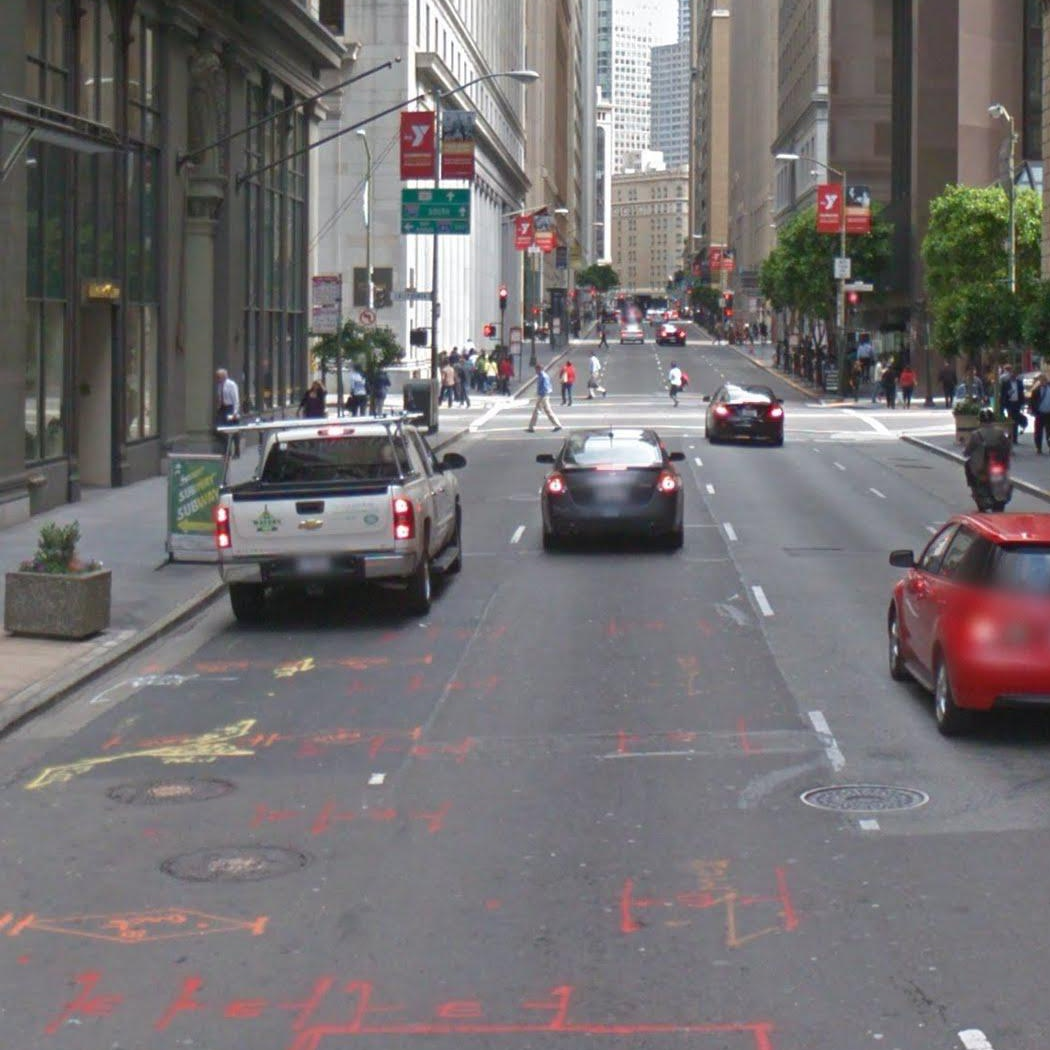No Parking: (310, 275, 342, 306), (309, 306, 340, 335)
